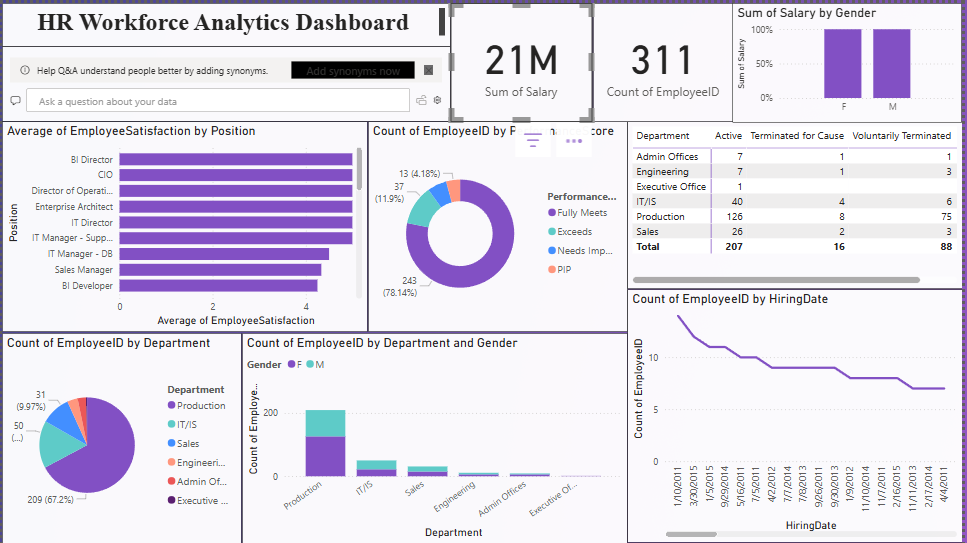

What the dashboard file says about the page in this screenshot:
{"tool":"powerbi","page":{"name":"Page 1","canvas":[1280,720],"ordinal":0},"visuals":[{"type":"pieChart","fields":{"Y":["CountNonNull(HRData.EmployeeID)"],"Category":["HRData.Department"]},"box":[0,439.3,319.6,280.4],"z":0},{"type":"columnChart","fields":{"Category":["HRData.Department"],"Series":["HRData.Gender"],"Y":["CountNonNull(HRData.EmployeeID)"]},"box":[319.6,439.3,514.3,280.4],"z":1000},{"type":"clusteredBarChart","fields":{"Category":["HRData.Position"],"Y":["Avg(HRData.EmployeeSatisfaction)"]},"box":[0,158.9,487.5,280.4],"z":2000},{"type":"donutChart","fields":{"Category":["HRData.PerformanceScore"],"Y":["CountNonNull(HRData.EmployeeID)"]},"box":[487.5,158.9,346.4,280.4],"z":3000},{"type":"lineChart","fields":{"Category":["HRData.HiringDate"],"Y":["CountNonNull(HRData.EmployeeID)"]},"box":[833.9,382.1,446.4,337.5],"z":4000},{"type":"pivotTable","fields":{"Rows":["HRData.Department"],"Columns":["HRData.EmploymentStatus"],"Values":["CountNonNull(HRData.EmployeeID)"]},"box":[833.9,158.9,446.4,223.2],"z":5000},{"type":"textbox","box":[0,0,598.2,58.9],"z":6000},{"type":"qnaVisual","box":[0,58.9,598.2,100],"z":7000},{"type":"card","fields":{"Values":["Sum(HRData.Salary)"]},"box":[598.2,0,189.3,158.9],"z":8000},{"type":"card","fields":{"Values":["CountNonNull(HRData.EmployeeID)"]},"box":[787.5,0,187.5,158.9],"z":9000},{"type":"hundredPercentStackedColumnChart","fields":{"Category":["HRData.Gender"],"Y":["Sum(HRData.Salary)"]},"box":[974,0,306,159],"z":10000}]}

Visuals, with their boxes in screenshot pixels (x1, y1, x2, y2):
pieChart - CountNonNull(HRData.EmployeeID) x HRData.Department: Rect(0, 330, 238, 539)
columnChart - HRData.Department x HRData.Gender: Rect(238, 330, 621, 539)
clusteredBarChart - HRData.Position x Avg(HRData.EmployeeSatisfaction): Rect(0, 121, 363, 330)
donutChart - HRData.PerformanceScore x CountNonNull(HRData.EmployeeID): Rect(363, 121, 621, 330)
lineChart - HRData.HiringDate x CountNonNull(HRData.EmployeeID): Rect(621, 287, 954, 539)
pivotTable - HRData.Department x HRData.EmploymentStatus: Rect(621, 121, 954, 287)
textbox: Rect(0, 3, 446, 46)
qnaVisual: Rect(0, 46, 446, 121)
card - Sum(HRData.Salary): Rect(446, 3, 587, 121)
card - CountNonNull(HRData.EmployeeID): Rect(587, 3, 726, 121)
hundredPercentStackedColumnChart - HRData.Gender x Sum(HRData.Salary): Rect(726, 3, 954, 121)
